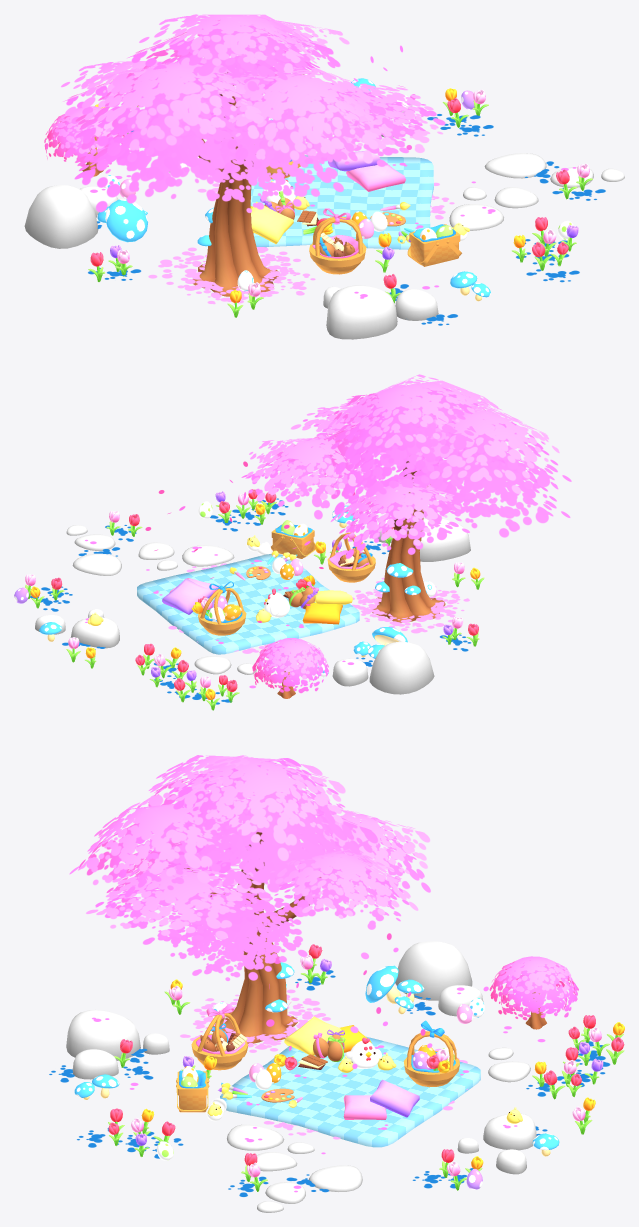
3 views of the same model, one above another, from view 1: azimuth 30°, elevation 25°; view 2: azimuth 150°, elevation 25°; view 3: azimuth 270°, elevation 25° (orthographic). The views are drawn at different scales.
Parts seen in each view (by area): view 1: Easter_Picnic_Pack; view 2: Easter_Picnic_Pack; view 3: Easter_Picnic_Pack.
Part boxes in pixels (x1,y1,x2,y2): Easter_Picnic_Pack: [24, 14, 624, 339]; Easter_Picnic_Pack: [14, 374, 571, 710]; Easter_Picnic_Pack: [49, 755, 624, 1212].
Size of what is drawn, in the model's own units: 1091 by 441 by 959.
6 materials, 6 textured.
